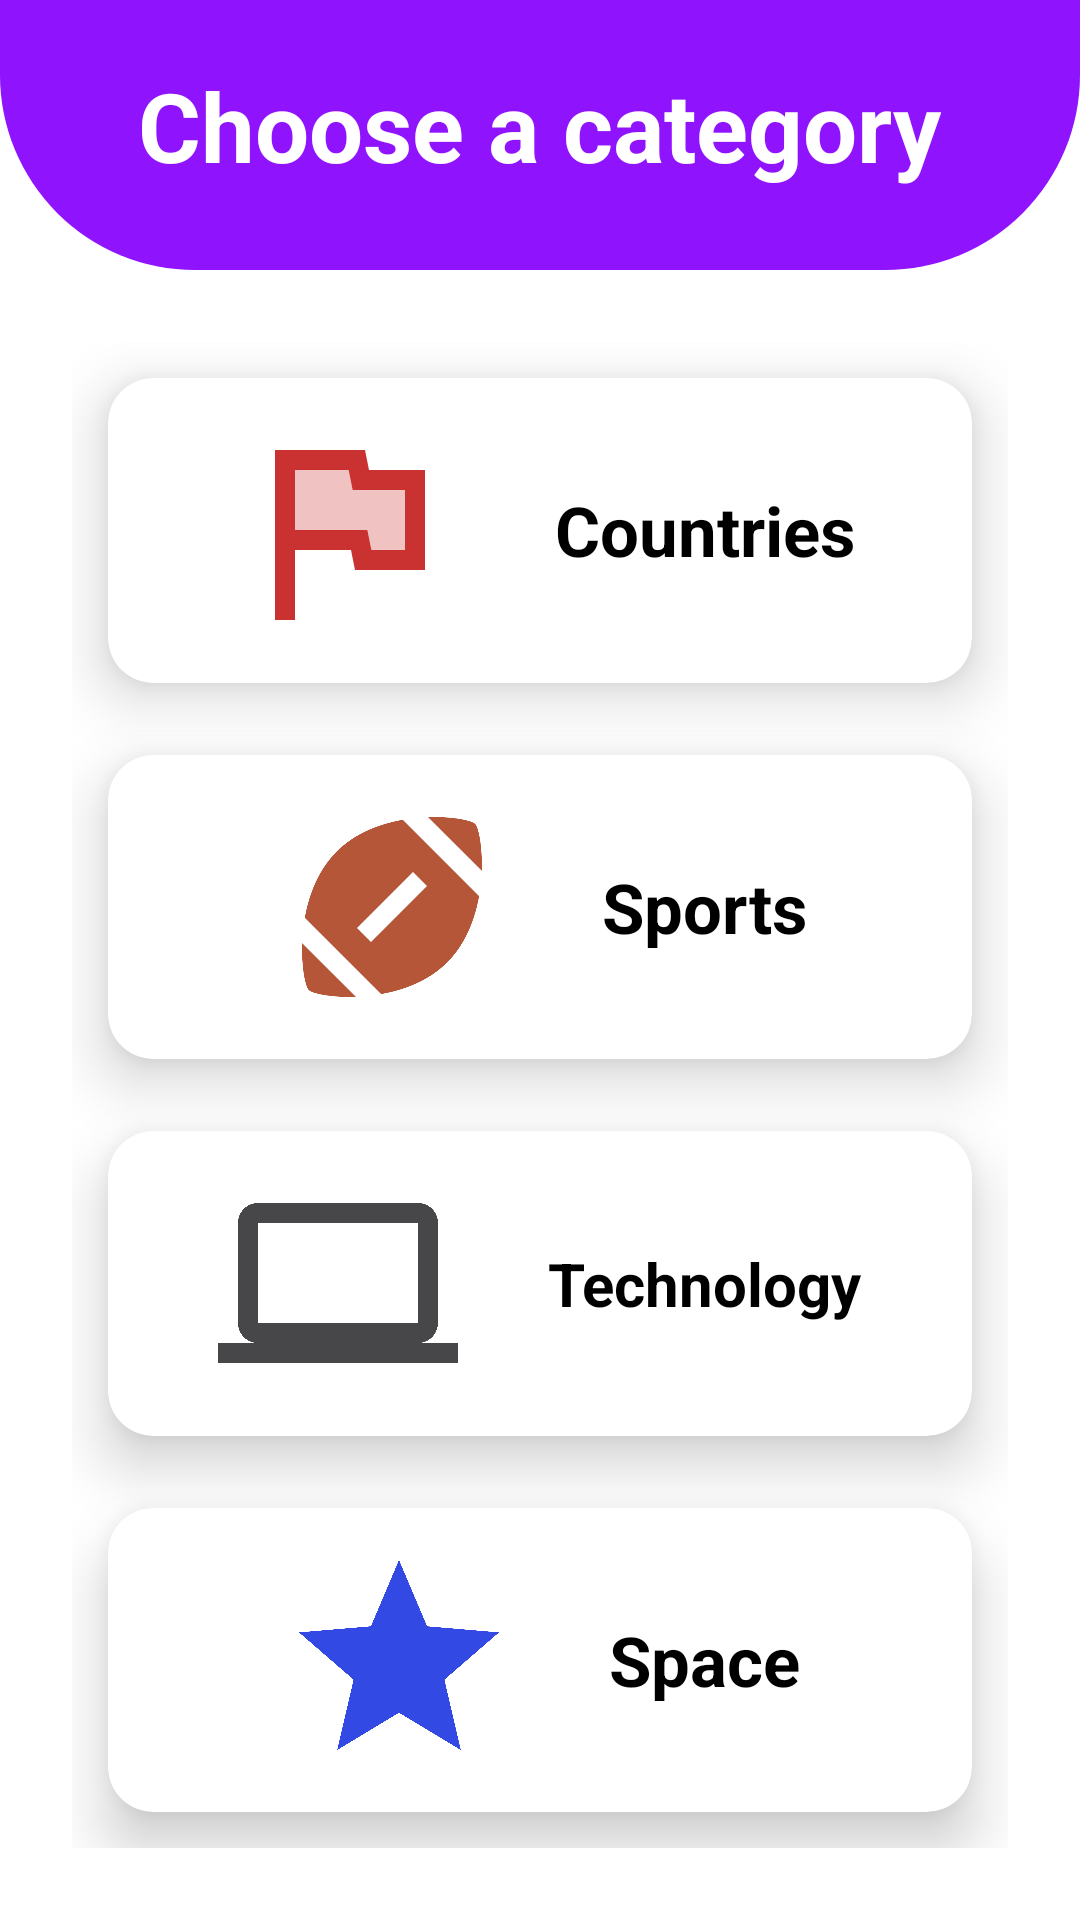

Screen size 1080×1920. Icon name, then its center in pixels as (x=x, y=y):
computer: (x=338, y=1283)
flag: (x=350, y=535)
